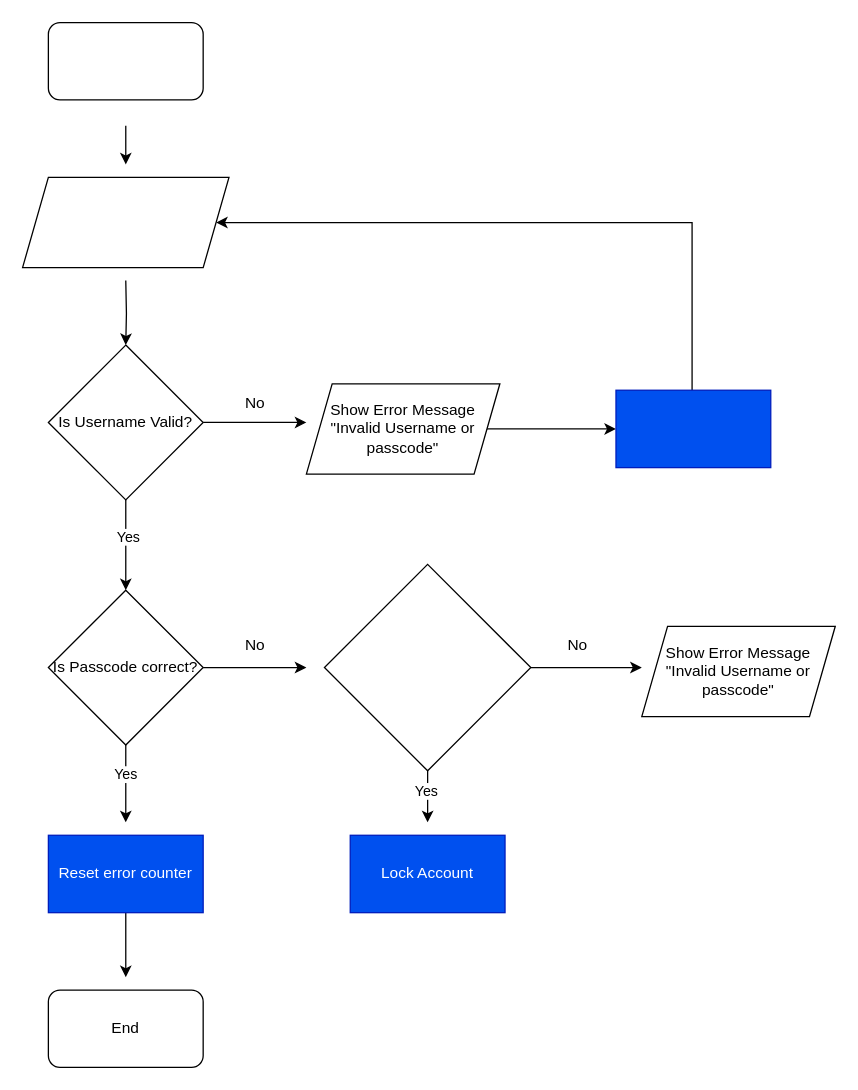
Some shapes in this 858 by 1090 pixel diagram are drawn without their labels. Here are the shapes that lost their labels. From the top down, the centre of each, then its label:
pixel 125 60: Start
pixel 125 222: Enter Username And passcode
pixel 693 428: Increment Attempts
pixel 427 667: Has Attempts Acceded 6 attempts
